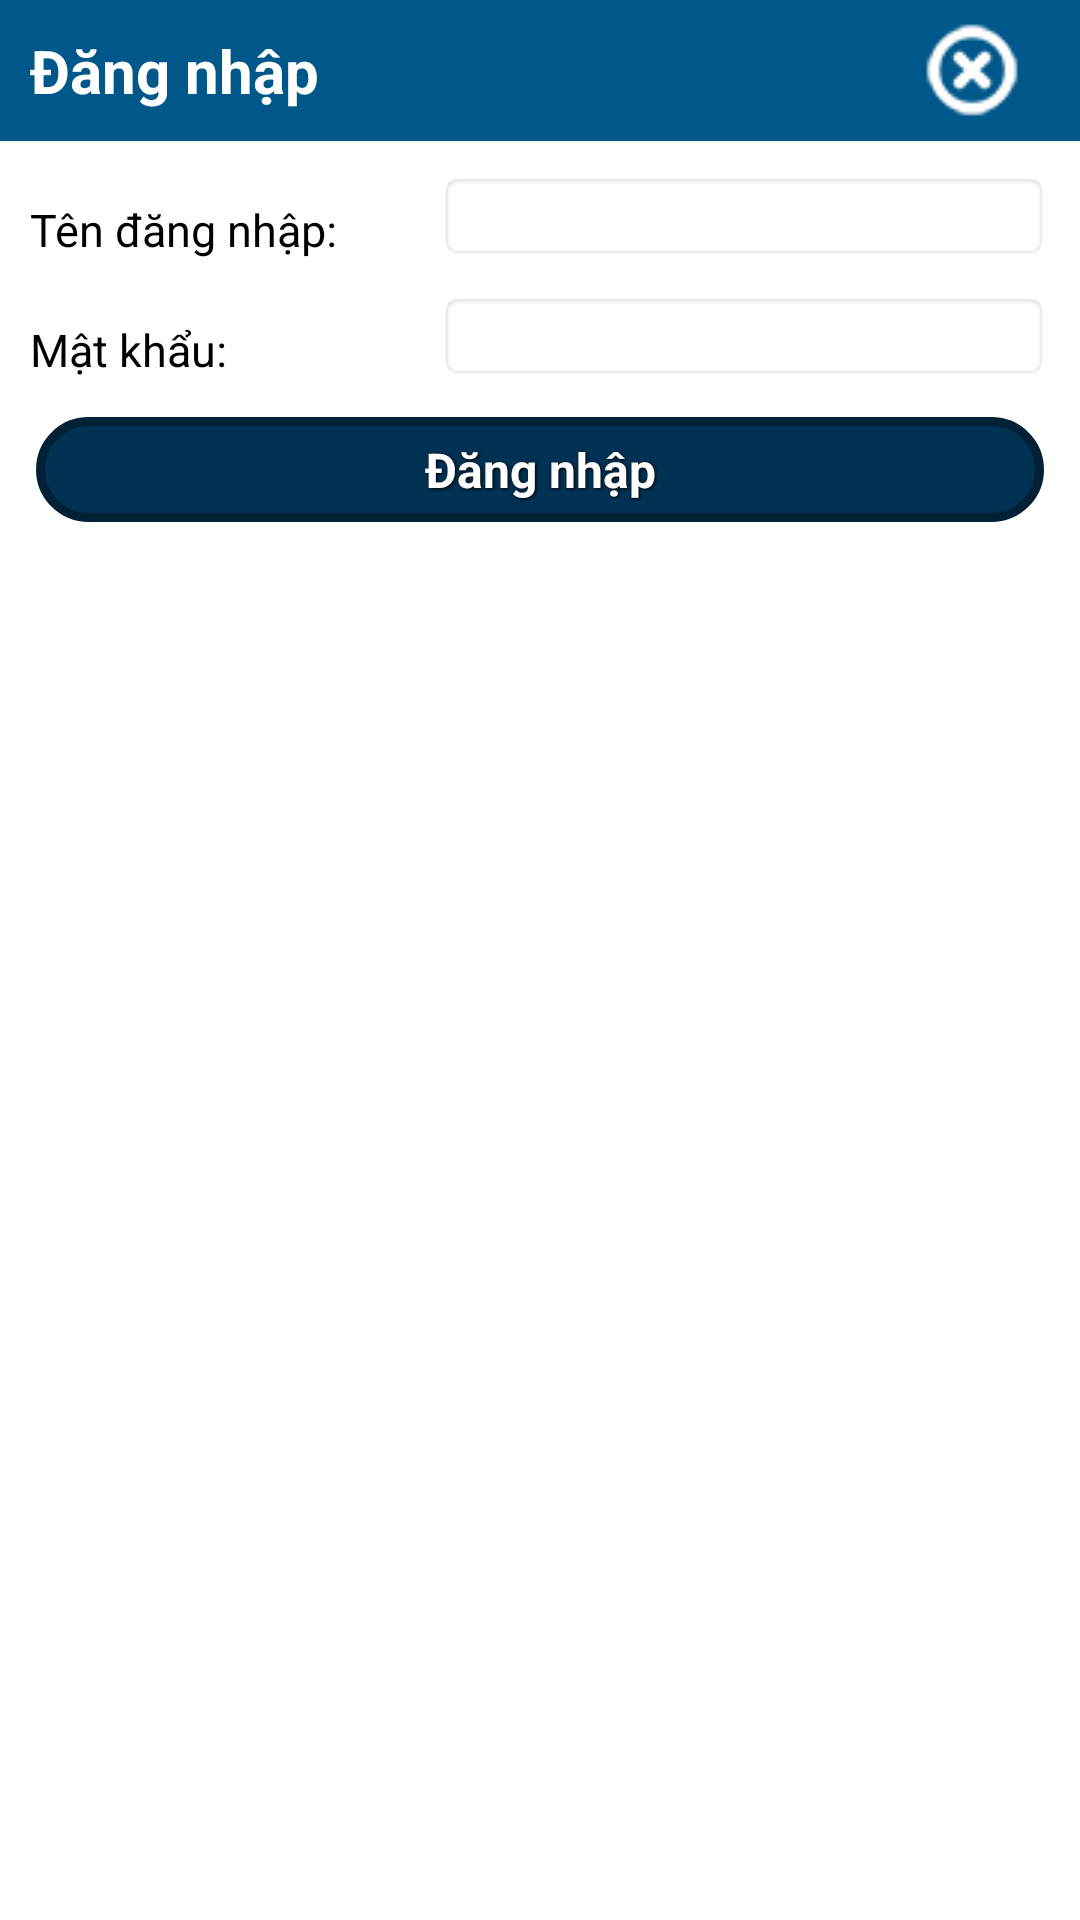

Icons on this 1080px×1920px Android screen, each with the point to tap as [x,y]:
gcs close: [972,70]
